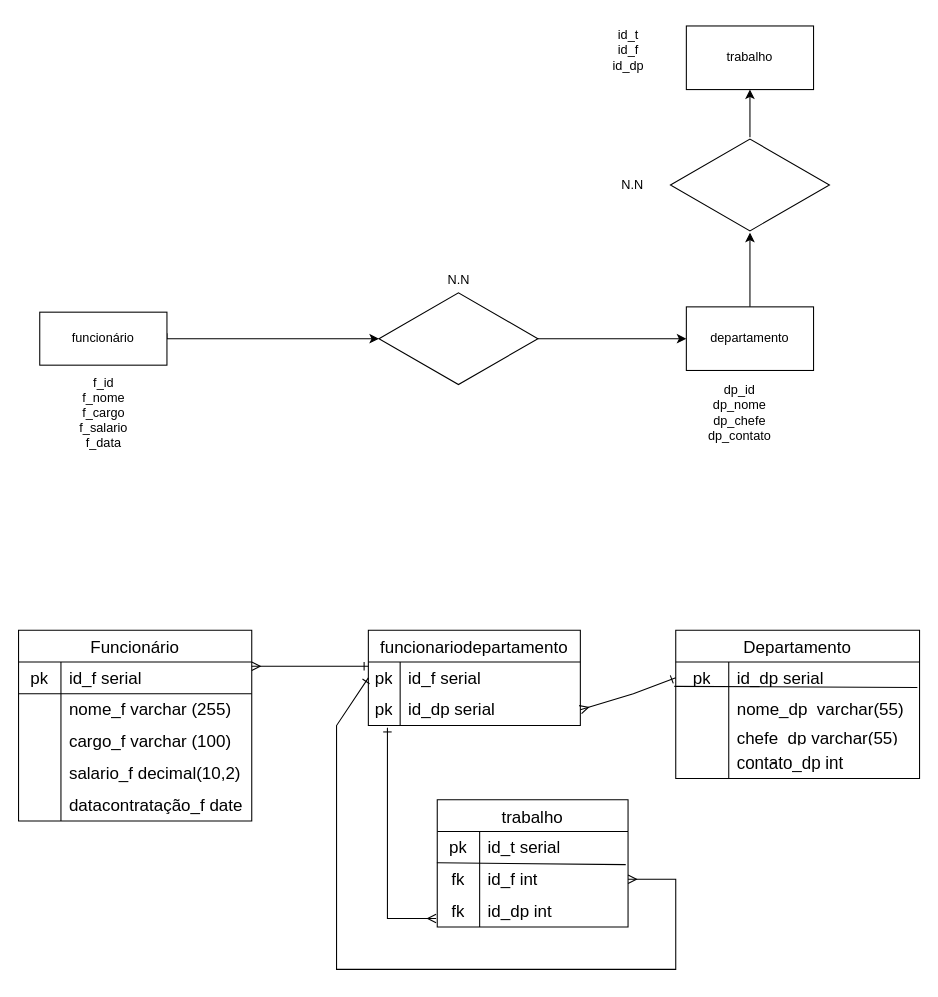
Some shapes in this 938 by 997 pixel diagram are drawn without their labels. The shapes that lost their labels are listed below. From the top down, each one's centre as x and y in pixels, then its label:
pixel 749 184: encaminha
pixel 458 338: chega
